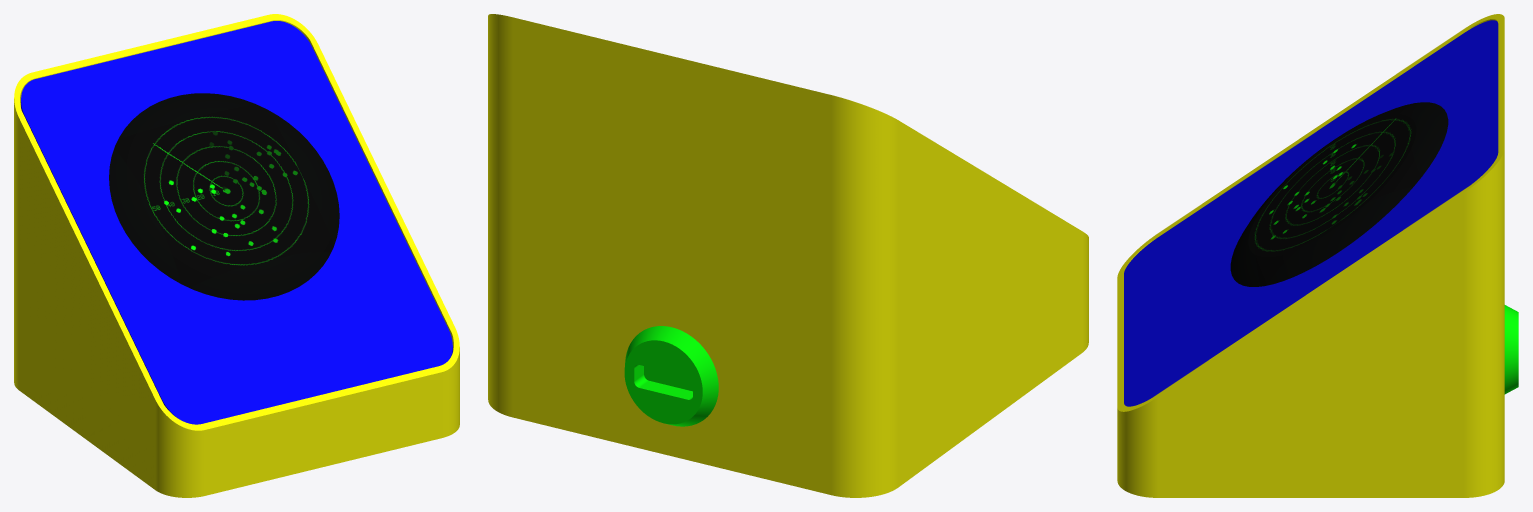
The model's file is radar_v9.glb.
3 views of the same model, side by side, from view 1: azimuth 30°, elevation 25°; view 2: azimuth 150°, elevation 25°; view 3: azimuth 270°, elevation 25° (orthographic). The views are drawn at different scales.
Parts seen in each view (by area): view 1: faceplate, body, screen; view 2: body, plug; view 3: body, faceplate, screen, plug.
Boxes of the visible parts, box(x1,y1,x2,y2) form: faceplate: box(21, 21, 452, 424); body: box(14, 14, 459, 497); screen: box(109, 93, 339, 300); body: box(488, 14, 1088, 497); plug: box(624, 326, 718, 426); body: box(1117, 14, 1504, 497); faceplate: box(1124, 20, 1498, 406); screen: box(1230, 102, 1448, 286); plug: box(1504, 305, 1518, 394).
Size of the model in its own units: 0.0603 by 0.0571 by 0.0625.
4 materials, 1 textured.
